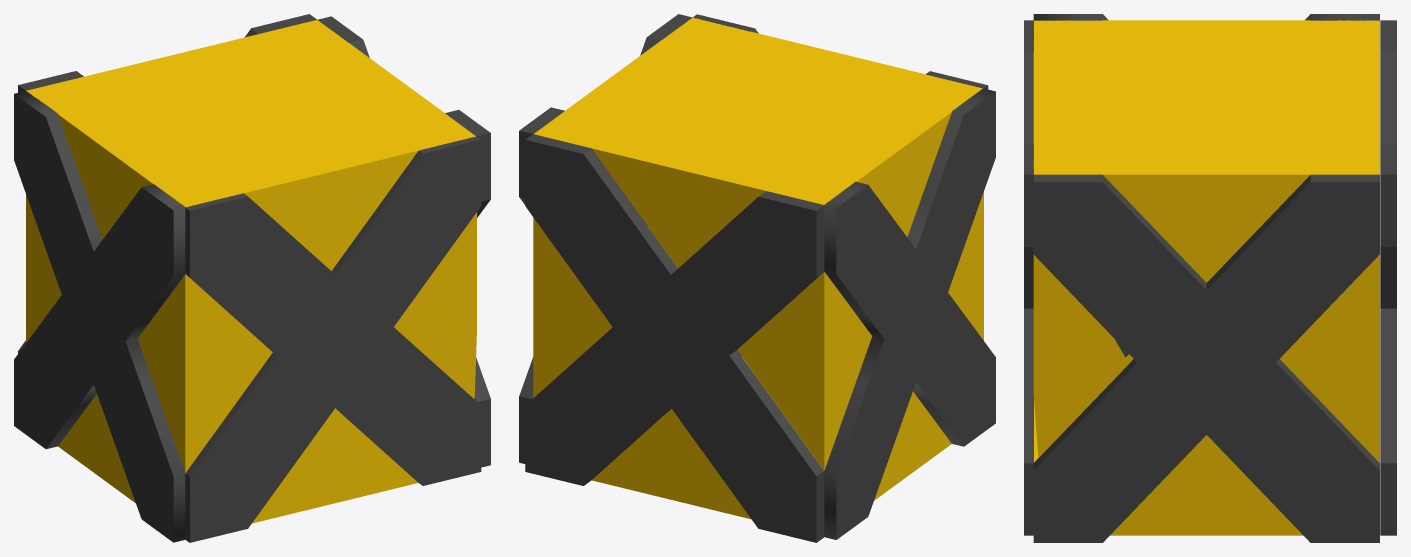
The model's file is xbox7.fbx.
The picture shows the model from 3 angles, left to right: view 1: azimuth 30°, elevation 25°; view 2: azimuth 150°, elevation 25°; view 3: azimuth 270°, elevation 25°; orthographic projection. The views are drawn at different scales.
Visible parts, largest first — view 1: Cube.001; view 2: Cube.001; view 3: Cube.001.
Boxes of the visible parts, x1=… form: Cube.001: x1=14, y1=14, x2=490, y2=542; Cube.001: x1=519, y1=14, x2=995, y2=542; Cube.001: x1=1024, y1=14, x2=1396, y2=542.
Size of the model in its own units: 100 by 100 by 93.68.
